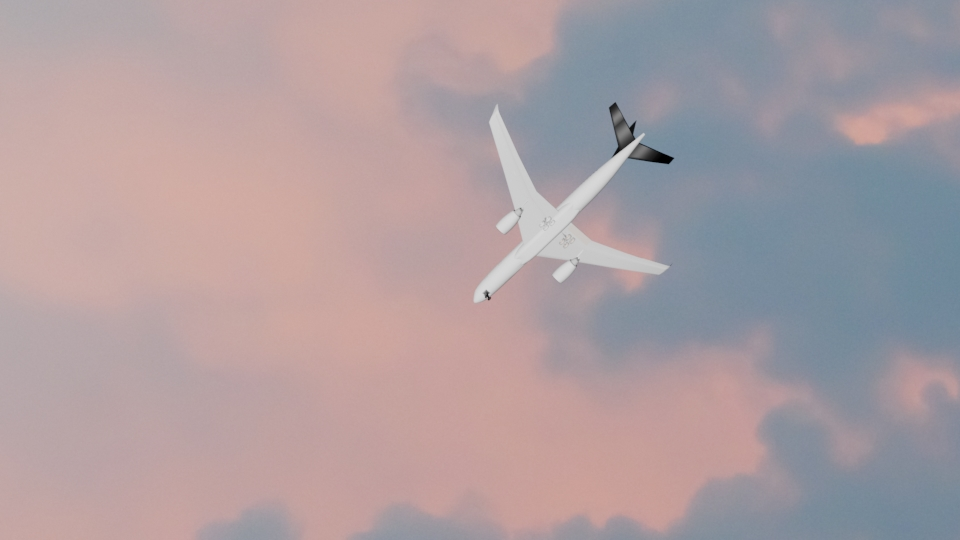plane: (472, 100, 675, 305)
